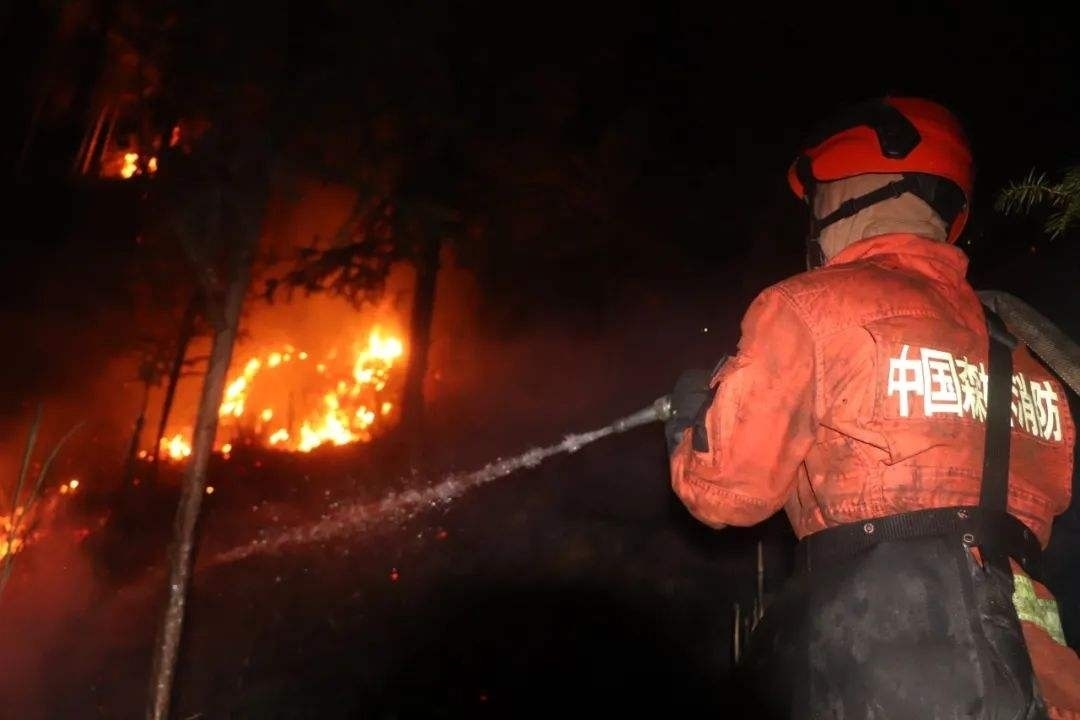fire: (166, 313, 409, 460), (1007, 372, 1067, 437), (110, 133, 166, 178)
